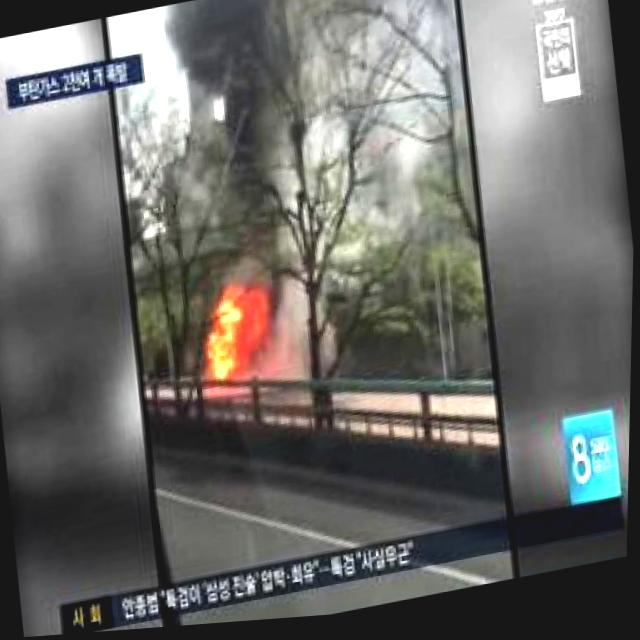helmet: (192, 278, 282, 396)
no_helmet: (149, 0, 404, 278)
